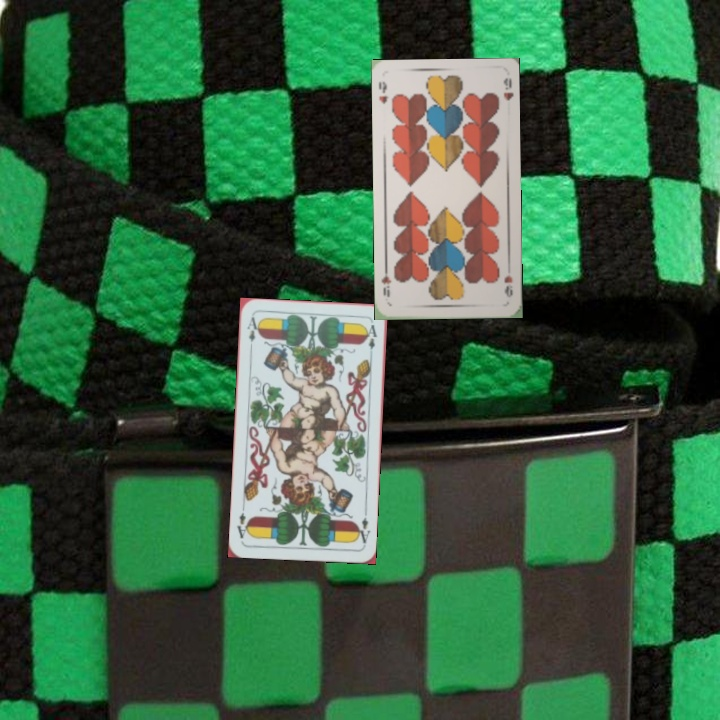EA: (352, 513, 373, 547), (243, 313, 262, 344)
H9: (374, 78, 390, 106), (500, 271, 515, 300)
